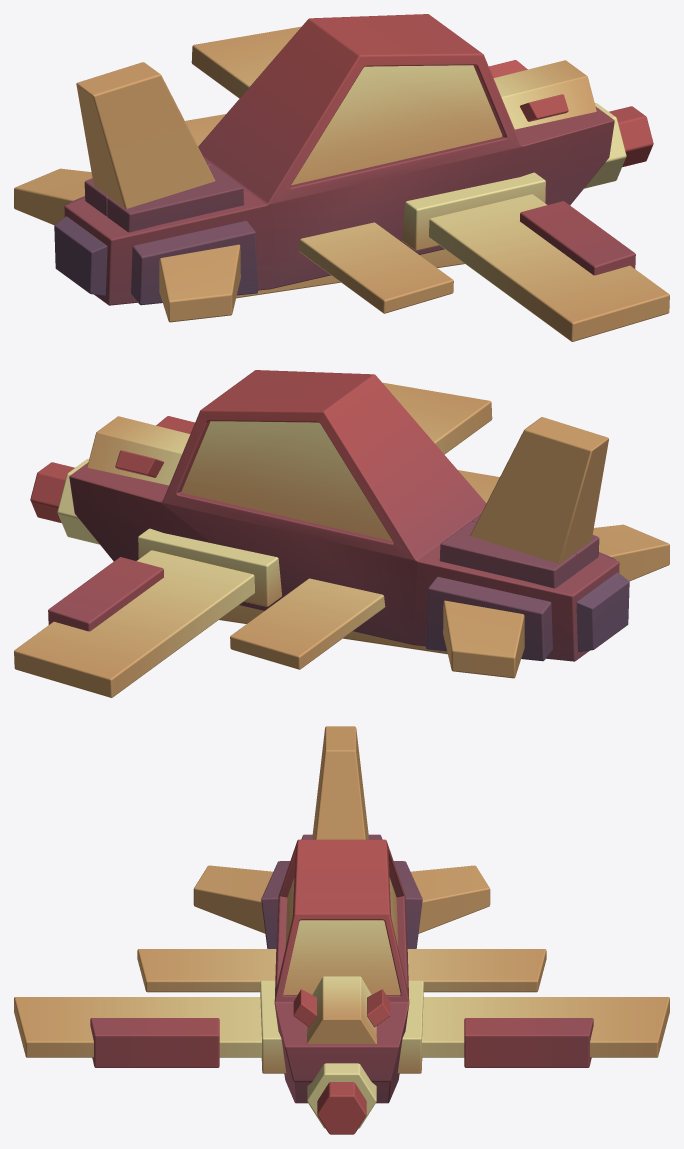
Rendered from enemy_rocket_raider.glb.
3 views of the same model, one above another, from view 1: azimuth 30°, elevation 25°; view 2: azimuth 150°, elevation 25°; view 3: azimuth 270°, elevation 25° (orthographic). The views are drawn at different scales.
Parts seen in each view (by area): view 1: Cube.032, Cube.025, Cube.034, Cube.035, Cube.037, Cube.036, Cube.031, Cylinder.001, Cube.033, Cube.038, Cylinder.003, Cylinder.004 (+2 smaller); view 2: Cube.032, Cube.025, Cube.034, Cube.035, Cube.037, Cube.036, Cube.031, Cylinder.001, Cube.033, Cube.038, Cylinder.003, Cylinder.004 (+2 smaller); view 3: Cube.025, Cube.032, Cube.031, Cube.035, Cube.034, Cylinder.001, Cube.033, Cube.037, Cylinder.003, Cylinder, Cylinder.004.
Part boxes in pixels (x1,y1,x2,y2): Cube.032: (64, 14, 614, 305); Cube.025: (185, 26, 669, 341); Cube.034: (76, 62, 215, 208); Cube.035: (14, 168, 240, 322); Cube.037: (68, 196, 257, 305); Cube.036: (84, 160, 244, 232); Cube.031: (520, 201, 635, 275); Cylinder.001: (493, 60, 596, 129); Cube.033: (402, 172, 545, 250); Cube.038: (54, 216, 107, 295); Cylinder.003: (609, 106, 653, 166); Cylinder.004: (489, 60, 568, 121); Cube.032: (69, 370, 619, 661); Cube.025: (14, 382, 499, 697); Cube.034: (470, 417, 608, 563); Cube.035: (443, 524, 669, 678); Cube.037: (426, 552, 615, 661); Cube.036: (439, 514, 599, 588); Cube.031: (48, 557, 163, 631); Cylinder.001: (87, 416, 190, 485); Cube.033: (138, 528, 281, 606); Cube.038: (576, 572, 629, 651); Cylinder.003: (30, 462, 74, 522); Cylinder.004: (115, 416, 194, 477); Cube.025: (14, 949, 669, 1057); Cube.032: (274, 839, 409, 1103); Cube.031: (90, 1018, 593, 1067); Cube.035: (193, 865, 490, 933); Cube.034: (312, 726, 368, 839); Cylinder.001: (307, 976, 376, 1043); Cube.033: (260, 981, 423, 1073); Cube.037: (261, 861, 422, 948); Cylinder.003: (317, 1082, 366, 1134); Cylinder: (307, 1063, 376, 1128); Cylinder.004: (293, 989, 390, 1027).
Bounding box in the file's own units: 10.48 × 4.64 × 12.17.
Materials: 1 (1 with a texture image).
